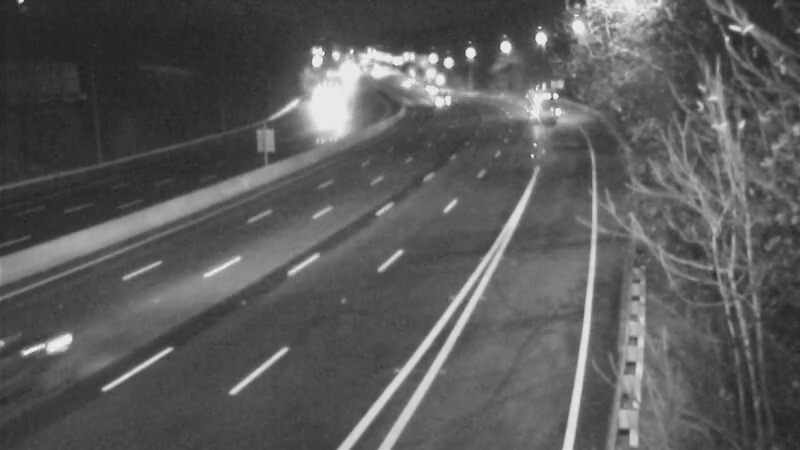vehicle: (414, 72, 464, 122), (510, 78, 560, 128), (298, 88, 348, 138)
